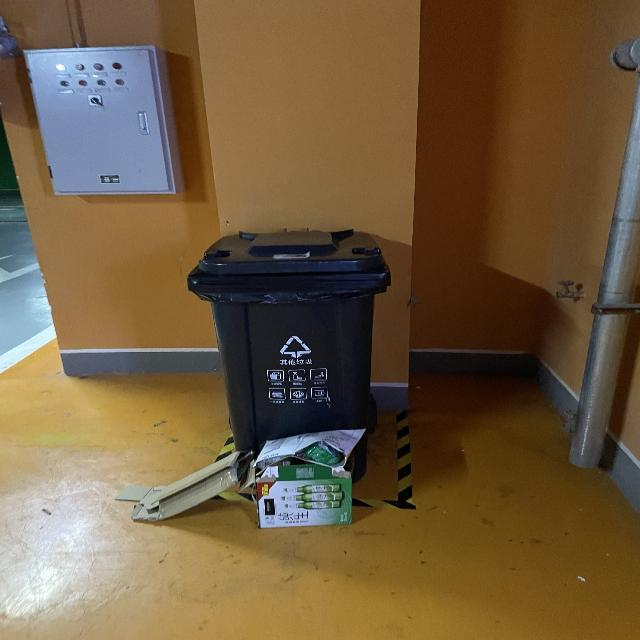garbage: (113, 425, 363, 527)
garbage_bin: (185, 226, 391, 482)
